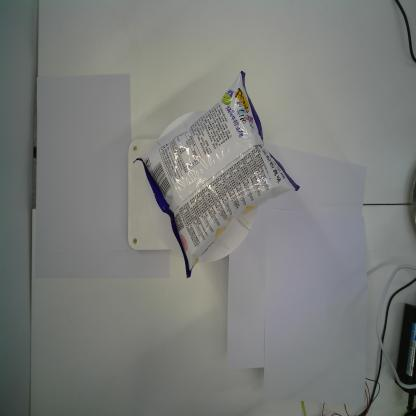Puffed Food: (133, 67, 300, 280)
